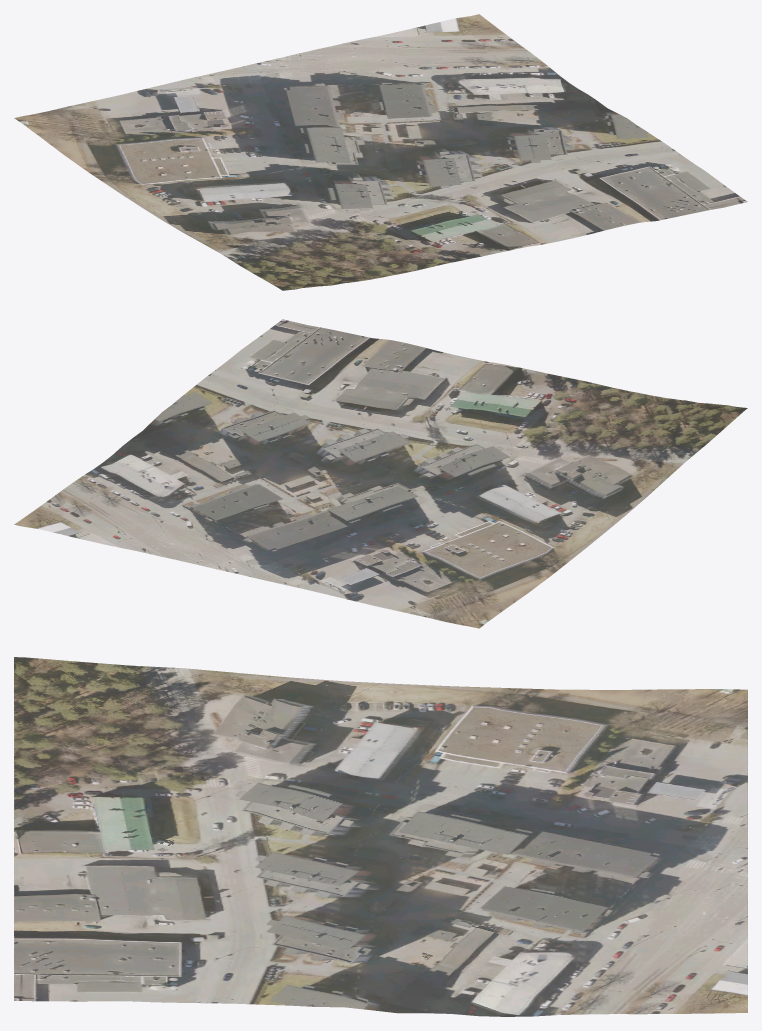
File: CM_Terrain_24489434_6820613.fbx
The picture shows the model from 3 angles, top to bottom: view 1: azimuth 30°, elevation 25°; view 2: azimuth 150°, elevation 25°; view 3: azimuth 270°, elevation 25°; orthographic projection. The views are drawn at different scales.
Visible parts, largest first — view 1: CM_Terrain_24489434_6820613_LOD0; view 2: CM_Terrain_24489434_6820613_LOD0; view 3: CM_Terrain_24489434_6820613_LOD0.
Part boxes in pixels (x1=…): CM_Terrain_24489434_6820613_LOD0: x1=14, y1=14, x2=747, y2=290; CM_Terrain_24489434_6820613_LOD0: x1=14, y1=319, x2=747, y2=628; CM_Terrain_24489434_6820613_LOD0: x1=14, y1=657, x2=747, y2=1016.
Size of what is drawn, in the model's own units: 205 by 15.59 by 205.
